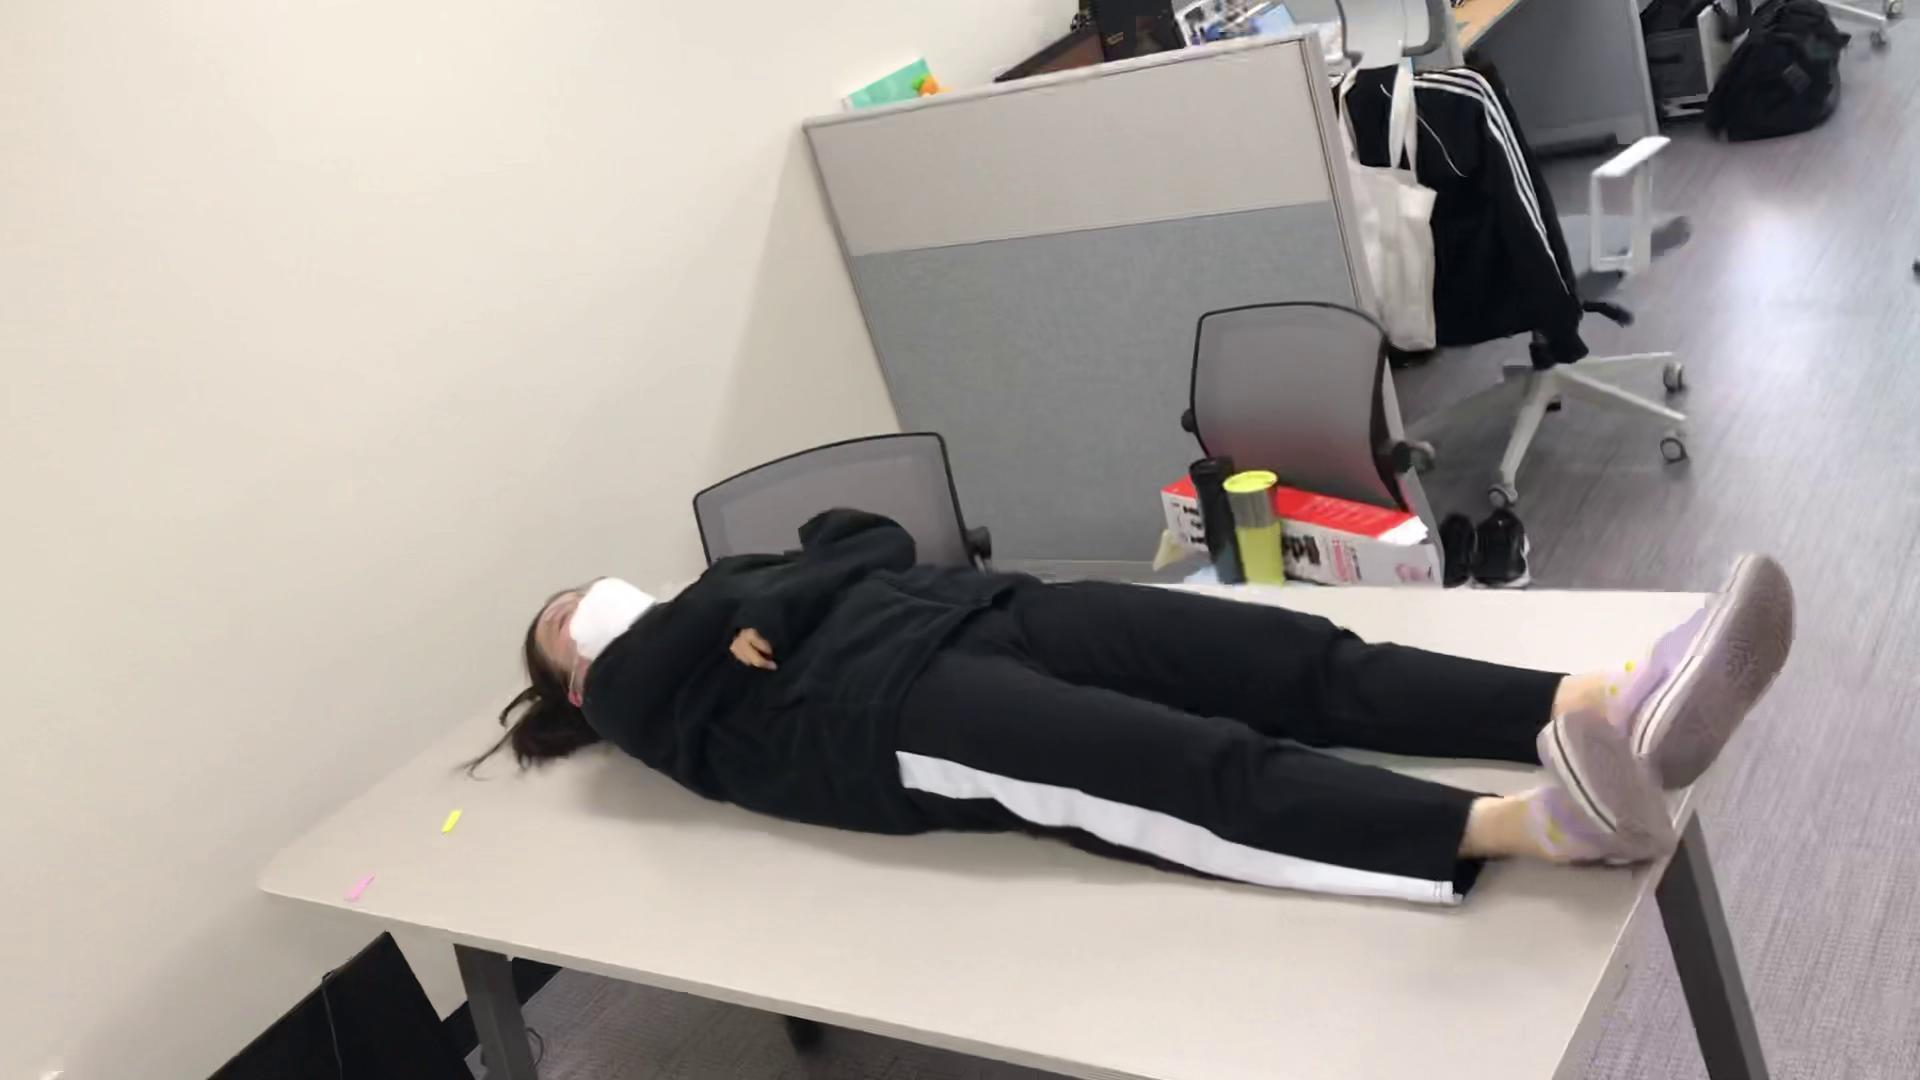sleep: (502, 508, 1801, 880)
